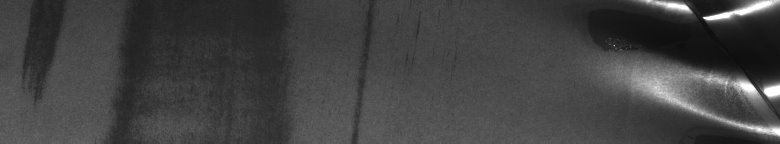ke: (606, 4, 776, 136)
